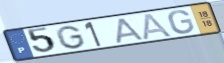1: (84, 21, 103, 48)
5: (24, 26, 58, 55)
A: (142, 12, 174, 41), (116, 16, 146, 44)
G: (54, 24, 87, 50), (167, 9, 196, 35)
